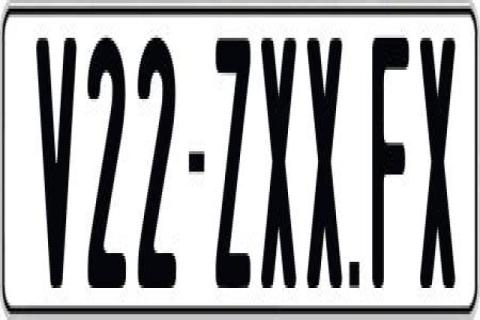0: (136, 38, 176, 294), (88, 35, 126, 285)
F: (371, 32, 409, 294)
V: (33, 32, 80, 300)
X: (306, 32, 346, 294), (260, 38, 300, 291), (421, 29, 456, 288)
Z: (213, 29, 255, 294)
